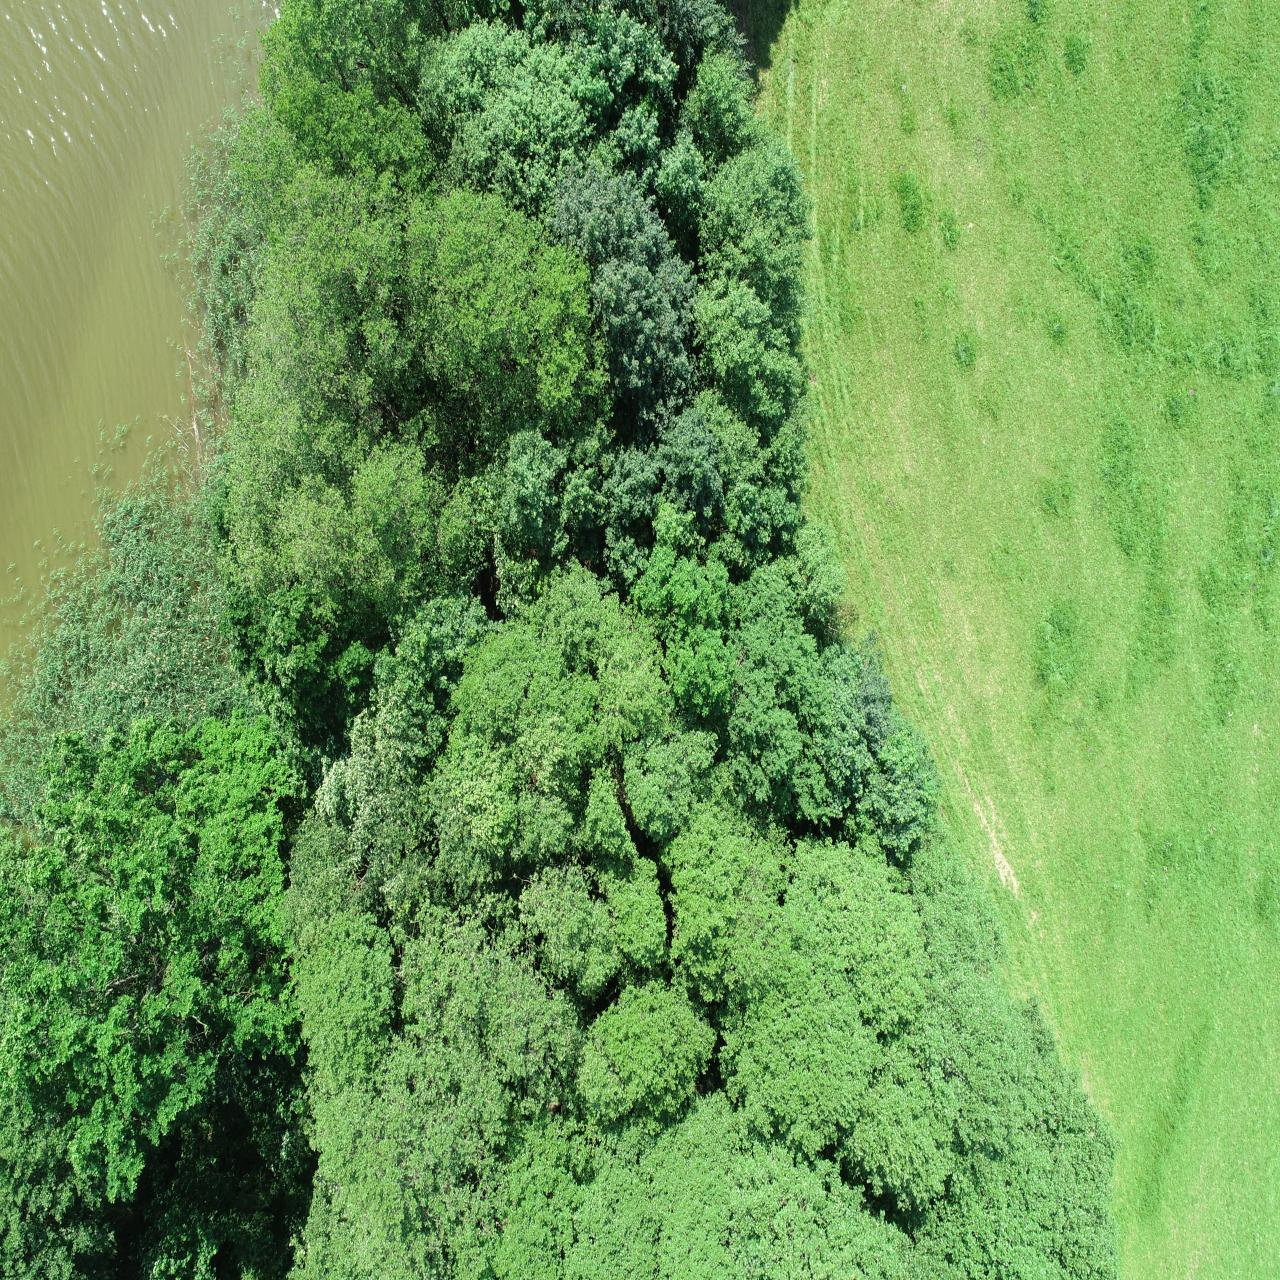cow: (94, 81, 124, 121), (812, 1, 840, 38)
